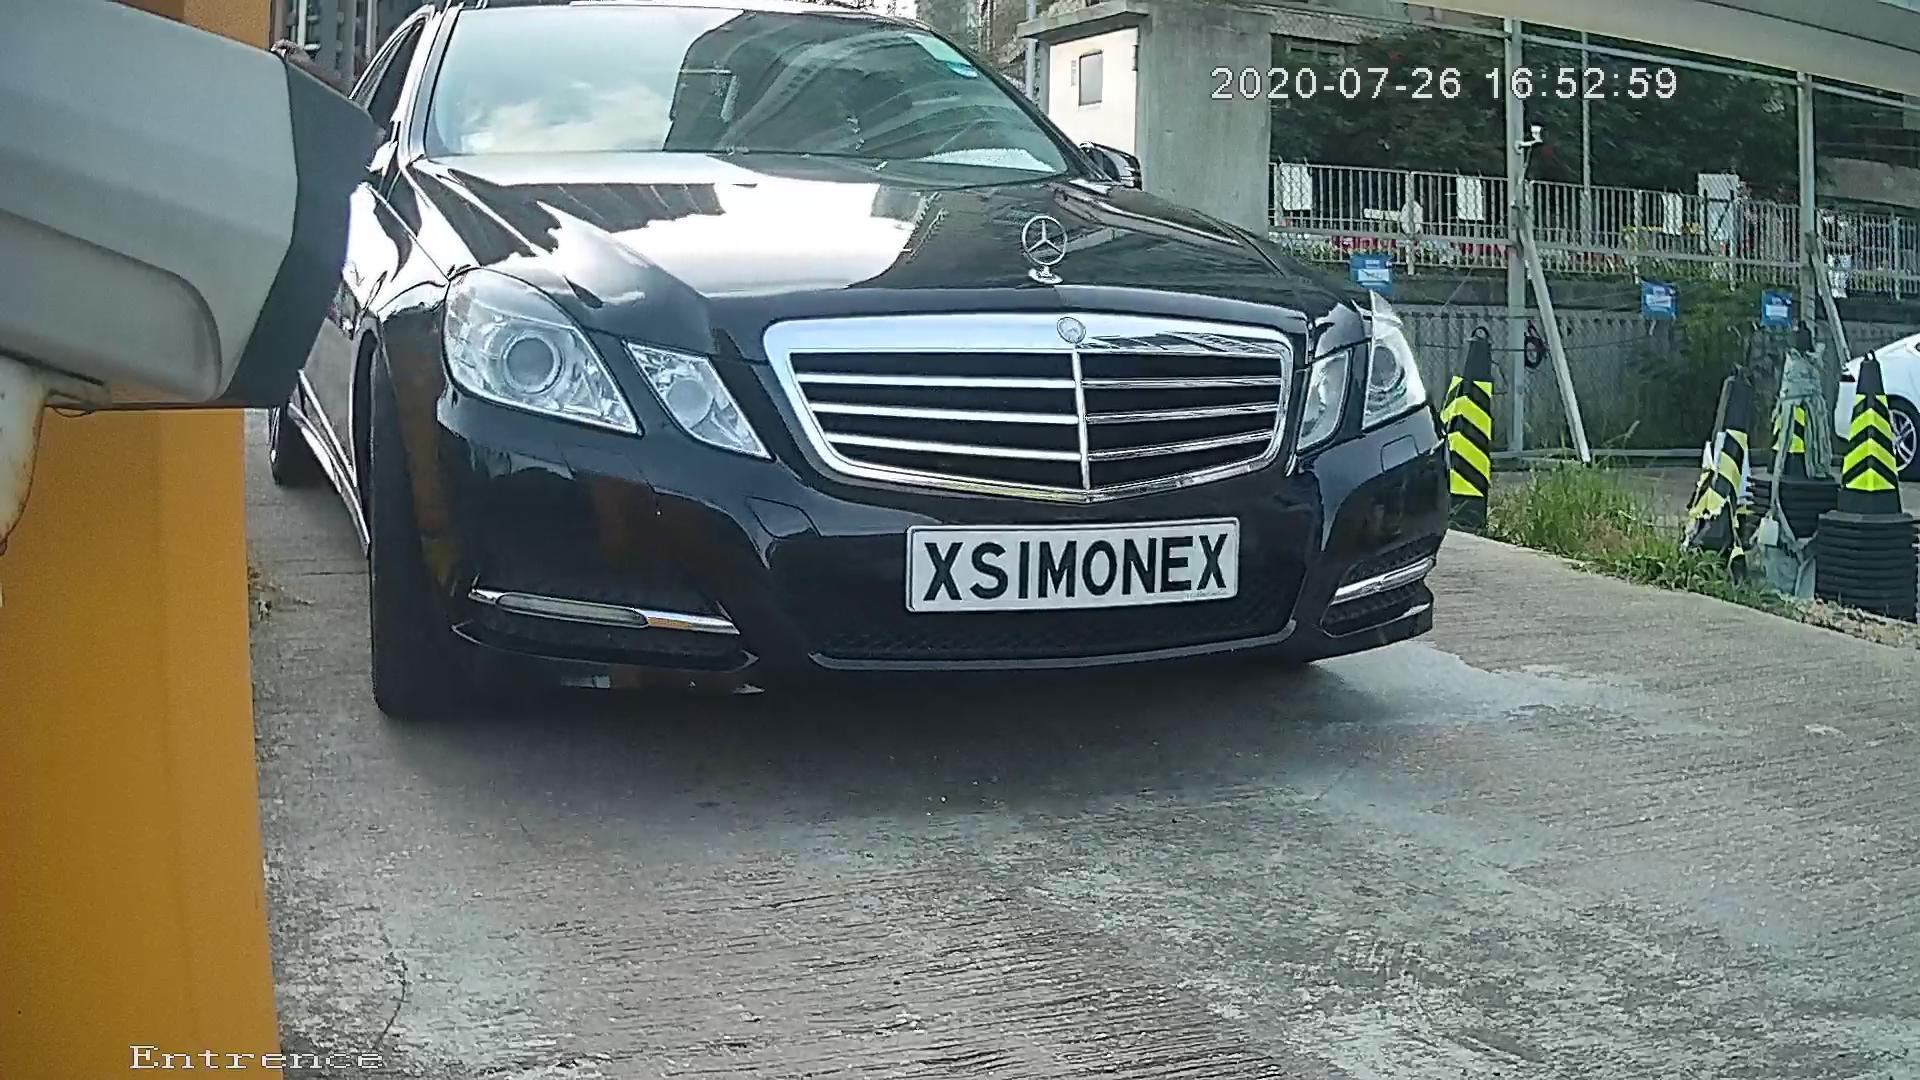privatecar: (272, 1, 1499, 770)
